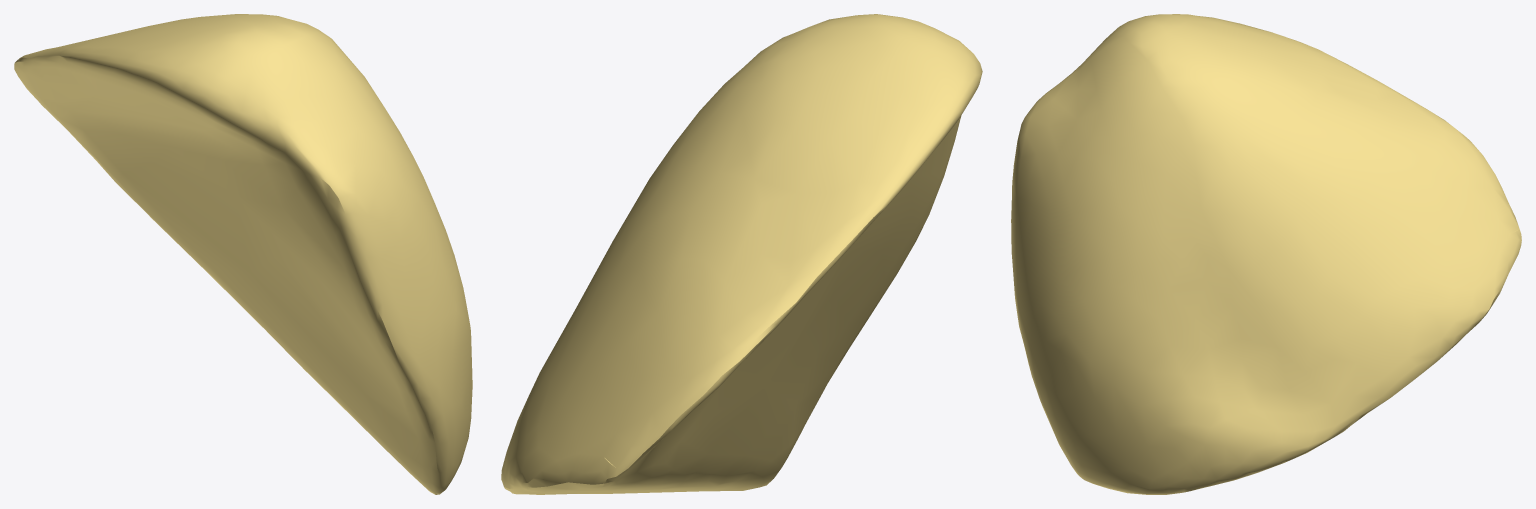
The model's file is fma73350_mm2967.glb.
The picture shows the model from 3 angles, left to right: view 1: azimuth 30°, elevation 25°; view 2: azimuth 150°, elevation 25°; view 3: azimuth 270°, elevation 25°; orthographic projection. The views are drawn at different scales.
Parts seen in each view (by area): view 1: FMA73350_MM2967; view 2: FMA73350_MM2967; view 3: FMA73350_MM2967.
Boxes of the visible parts, x1,y1,x2,y2 form: FMA73350_MM2967: (14, 14, 472, 494); FMA73350_MM2967: (501, 14, 982, 494); FMA73350_MM2967: (1011, 14, 1521, 494).
Bounding box in the file's own units: 0.00285 × 0.00382 × 0.0045.
